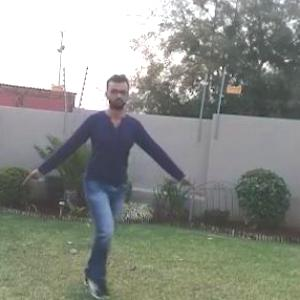land: (23, 70, 191, 298)
